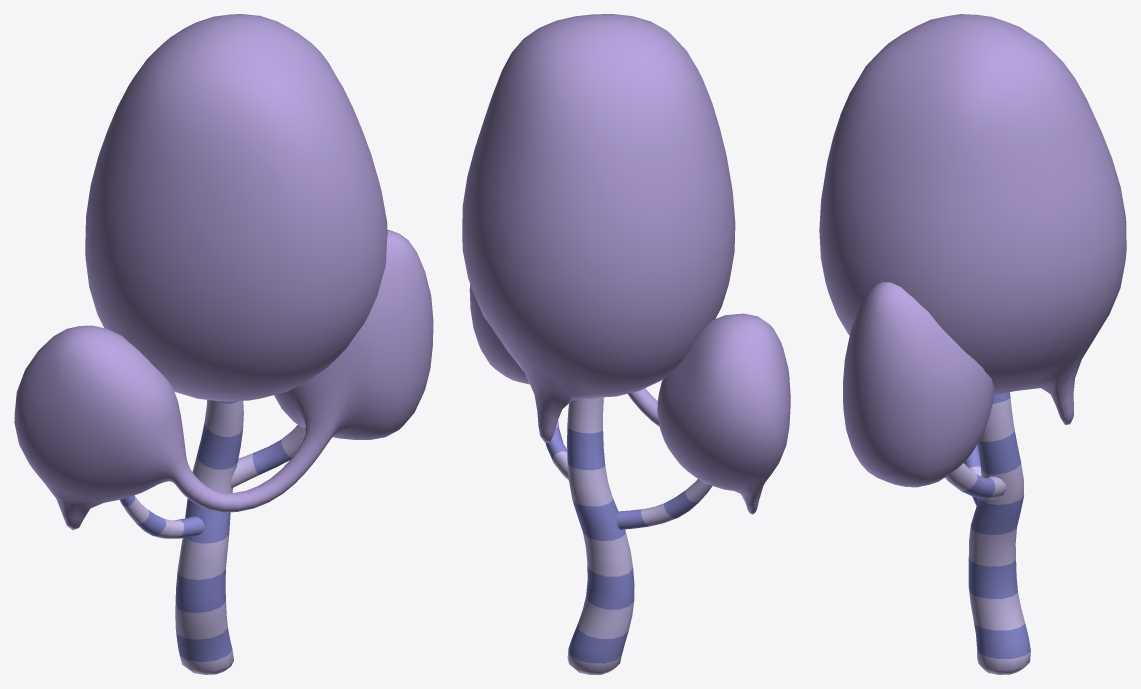
Rendered from Tree_CottonCandy_01.fbx.
3 views of the same model, side by side, from view 1: azimuth 30°, elevation 25°; view 2: azimuth 150°, elevation 25°; view 3: azimuth 270°, elevation 25° (orthographic). The views are drawn at different scales.
Parts seen in each view (by area): view 1: Tree_CottonCandy_01_LOD0; view 2: Tree_CottonCandy_01_LOD0; view 3: Tree_CottonCandy_01_LOD0.
Part boxes in pixels (x1,y1,x2,y2): Tree_CottonCandy_01_LOD0: (14, 14, 433, 674); Tree_CottonCandy_01_LOD0: (462, 14, 790, 674); Tree_CottonCandy_01_LOD0: (819, 14, 1126, 674).
Size of what is drawn, in the model's own units: 847 by 1474 by 632.
